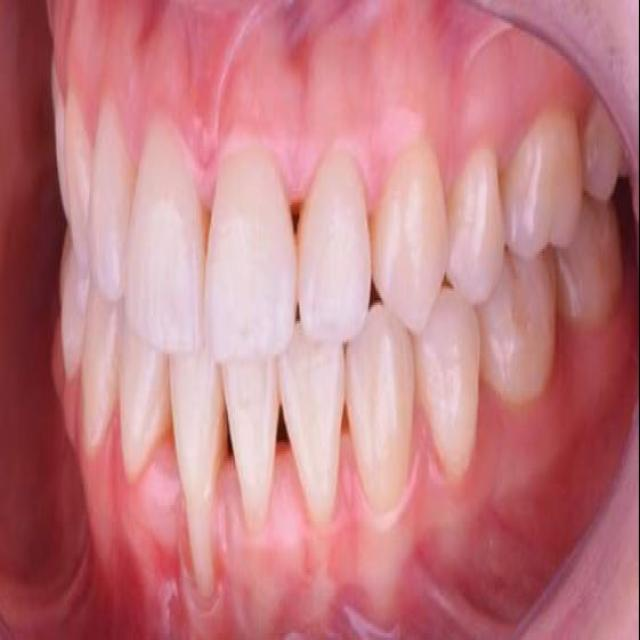1st Molar: (505, 109, 584, 261), (482, 251, 557, 407)
1st Premolar: (410, 293, 480, 489), (446, 138, 505, 303), (58, 233, 90, 382), (52, 74, 72, 220)
2nd Molar: (556, 195, 619, 333), (584, 106, 627, 205)
Canine: (372, 144, 448, 335), (346, 307, 414, 517), (79, 291, 125, 454), (67, 98, 91, 251)
Central Incisor: (204, 138, 297, 363), (125, 119, 206, 360), (167, 361, 226, 584), (220, 361, 280, 538)
Lateral Incisor: (296, 147, 372, 344), (278, 335, 346, 531), (90, 105, 135, 296), (119, 335, 169, 482)
